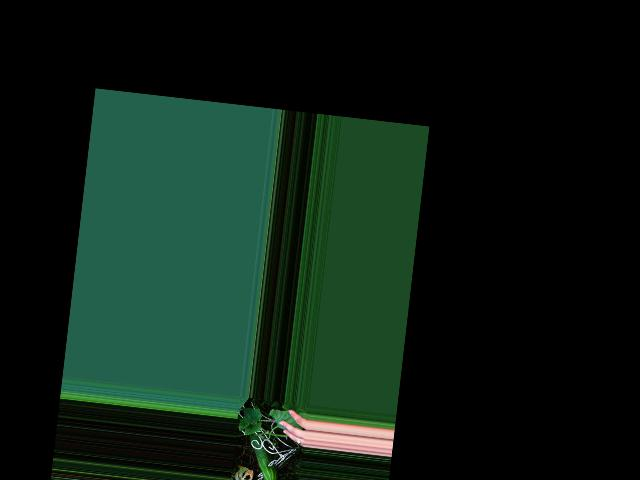cucumber: (244, 432, 282, 480)
